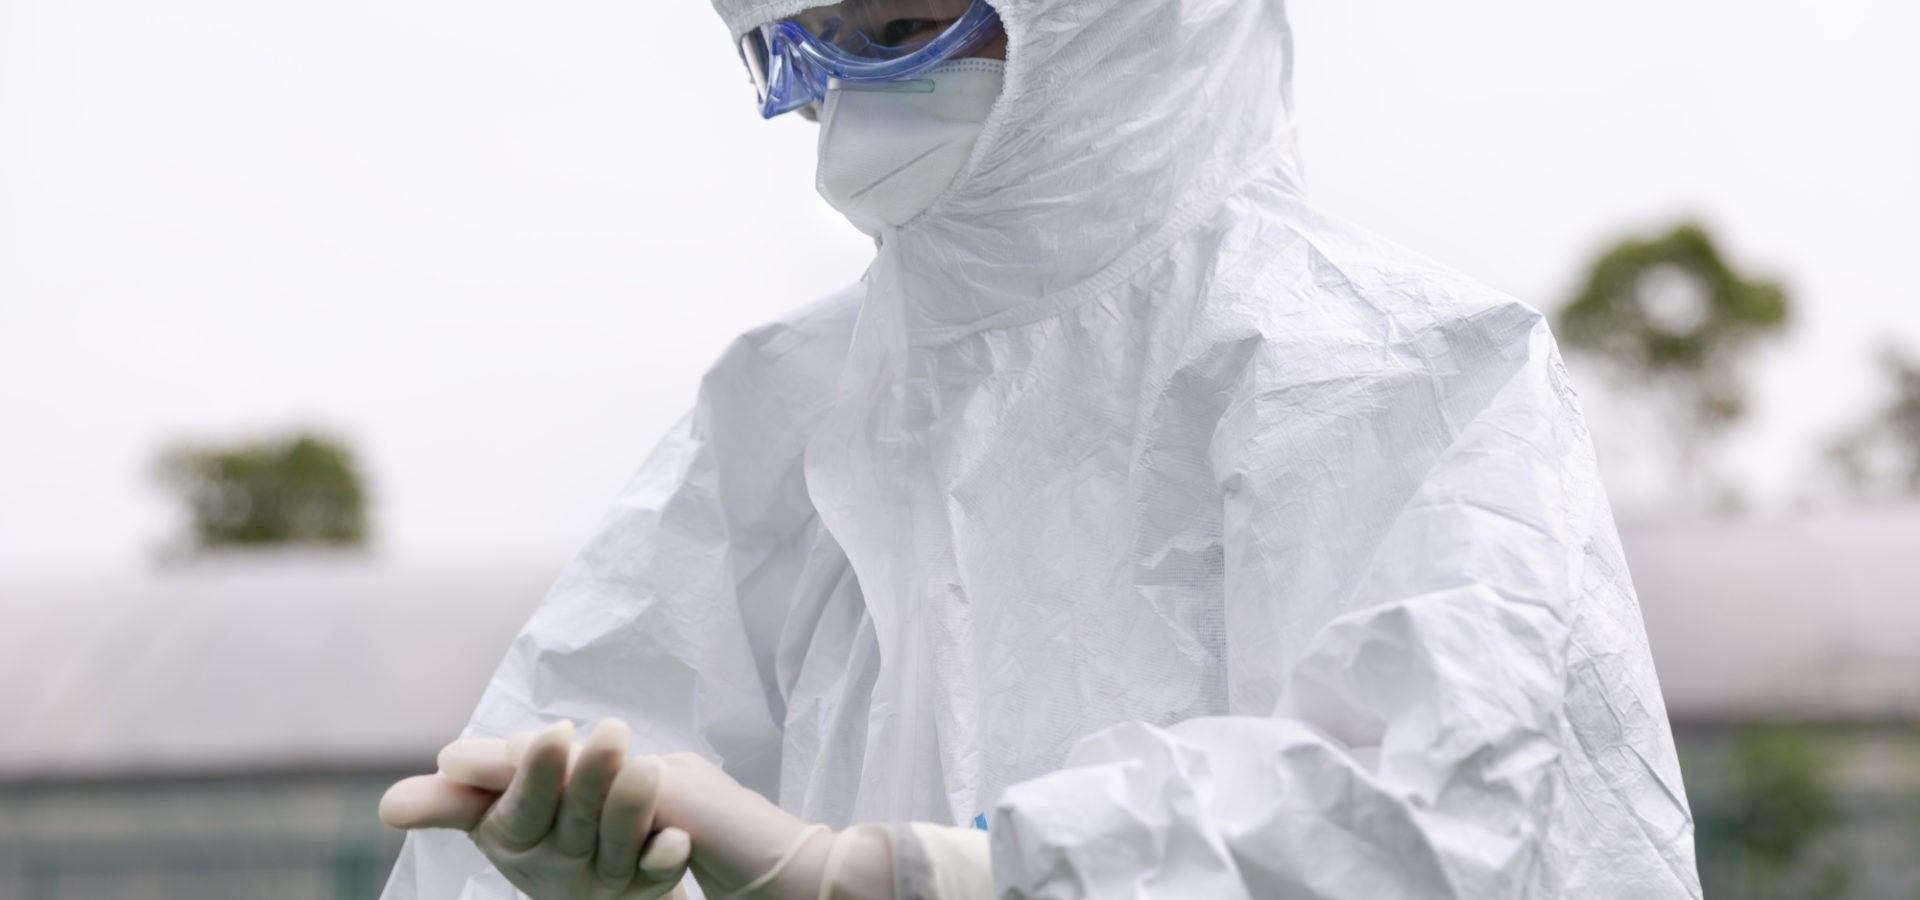Coverall: (362, 4, 1710, 900)
Gloves: (366, 706, 912, 900)
Goggles: (712, 2, 1022, 112)
with_mask: (785, 6, 1008, 239)
